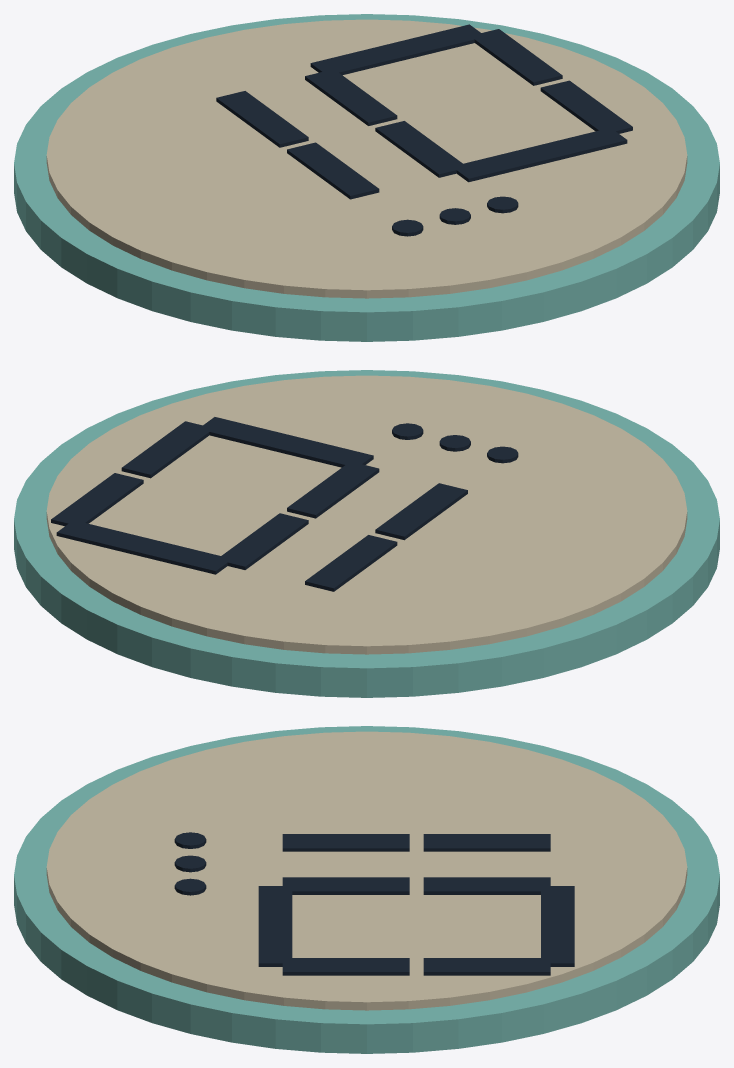
The model's file is space_number_10.glb.
3 views of the same model, one above another, from view 1: azimuth 30°, elevation 25°; view 2: azimuth 150°, elevation 25°; view 3: azimuth 270°, elevation 25° (orthographic).
Visible parts, largest first — view 1: FixedDetails; view 2: FixedDetails; view 3: FixedDetails.
Boxes of the visible parts, left/top/right/bottom form: FixedDetails: left=14, top=14, right=719, bottom=341; FixedDetails: left=14, top=370, right=719, bottom=697; FixedDetails: left=14, top=726, right=719, bottom=1053.
Size of the model in its own units: 0.54 by 0.036 by 0.54.
